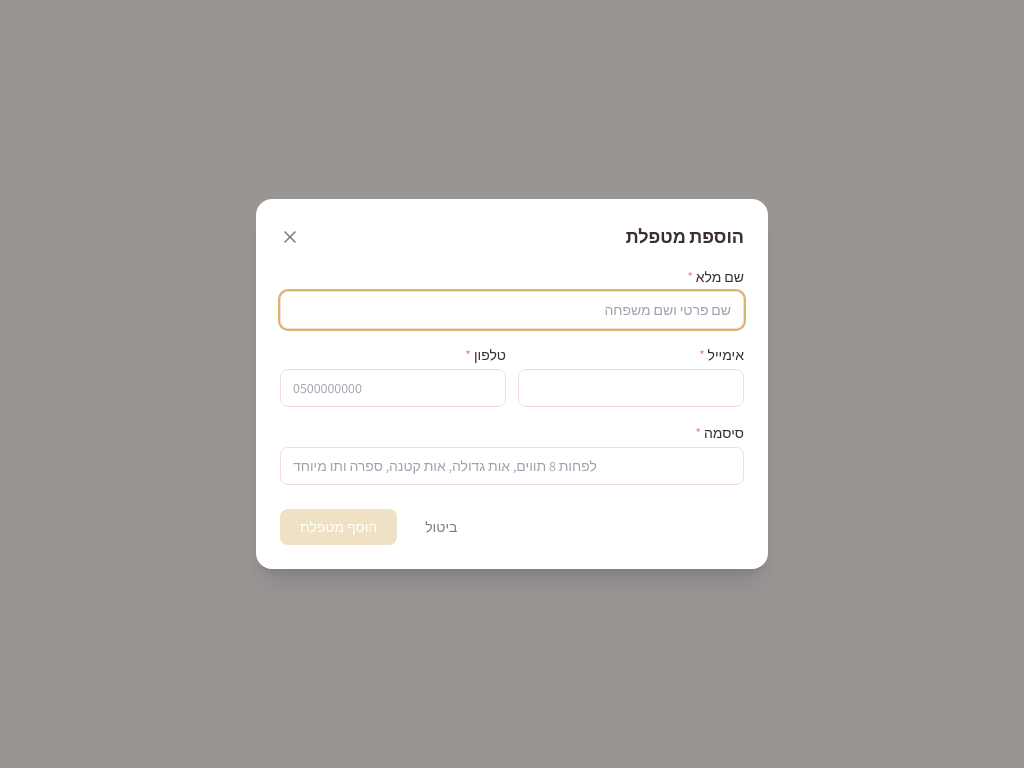
Scenario: TherapistModal (Phase 012 — password field, async createTherapist) › shows a Hebrew error and does not close when createTherapist rejects
The image size is (1024, 768).
Type "מטפלת חדשה" into the field with placeholder "שם פרטי ושם משפחה". click: [512, 310]
box: [280,291,744,329]
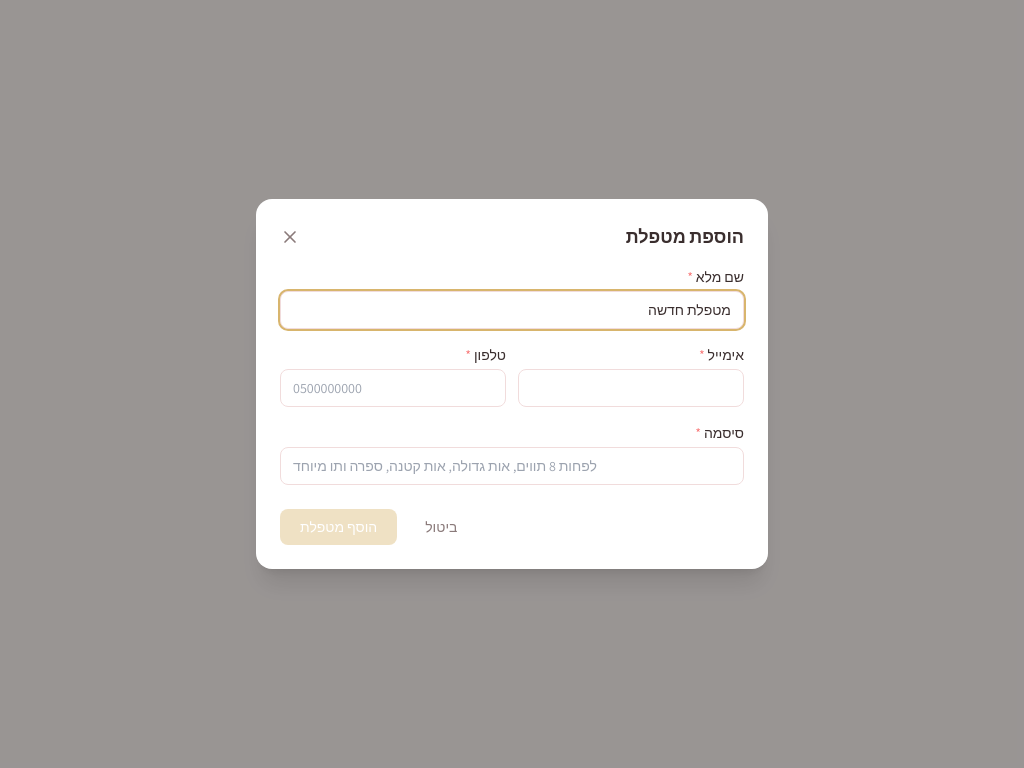
Type "dup@clinic.local" into the field below "אימייל". click: [631, 388]
box: [518,369,744,407]
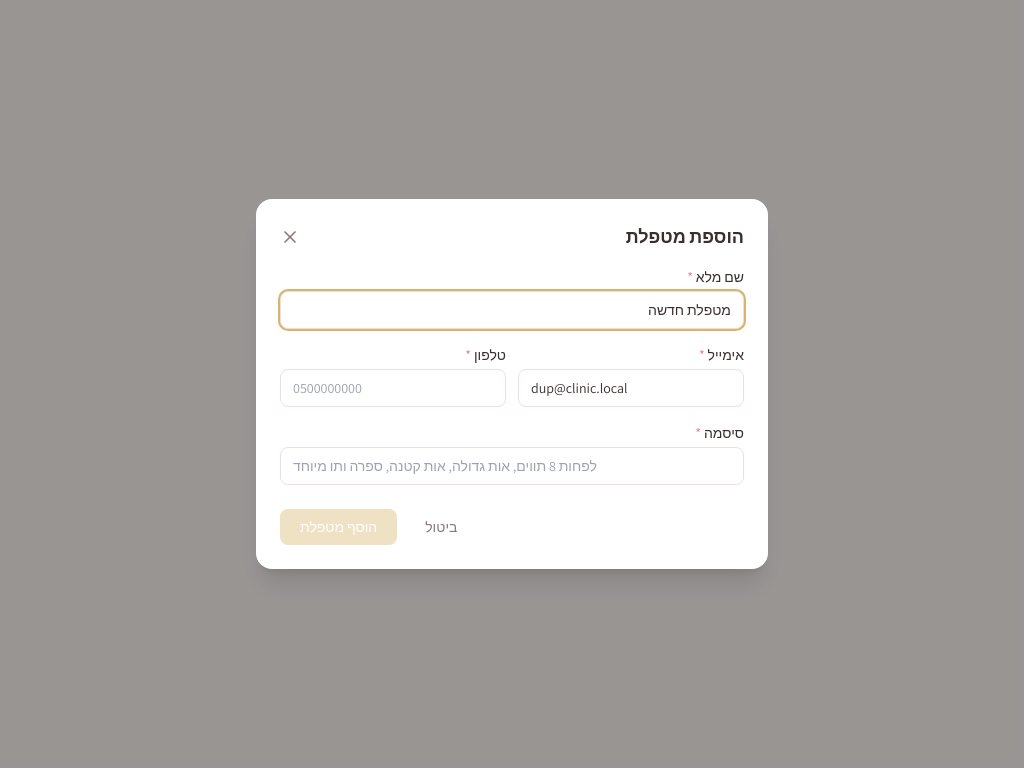
Type "0501234567" into the field with placeholder "0500000000". click: [393, 388]
box: [280,369,506,407]
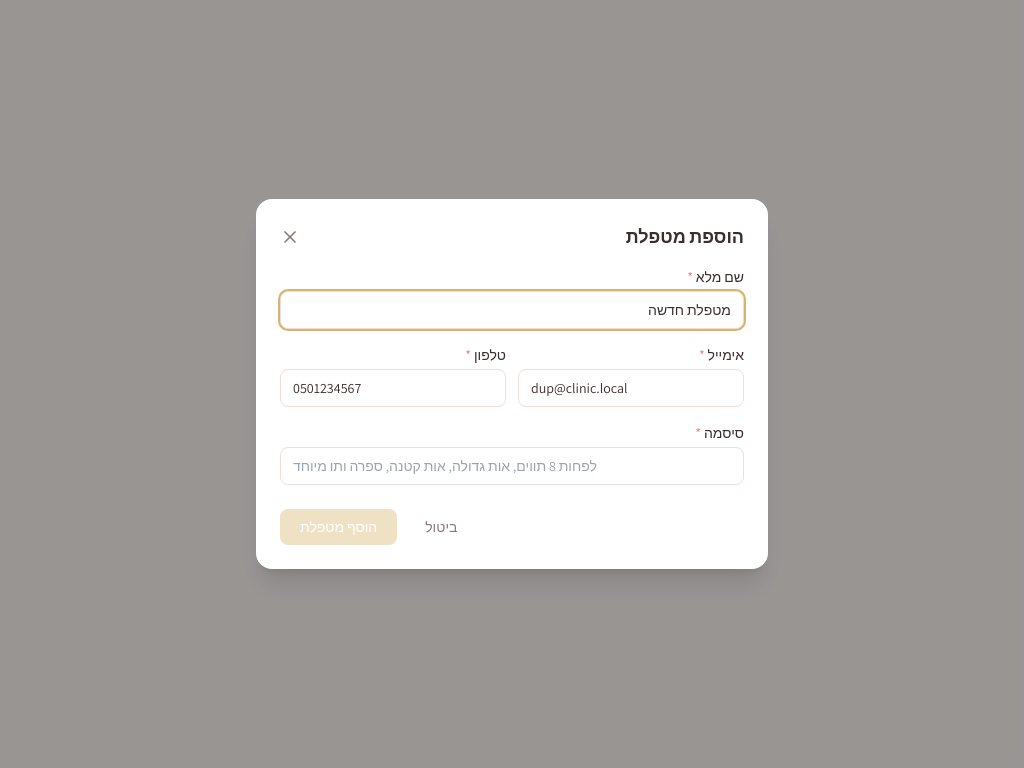
Type "Password@1" into the password field with placeholder "לפחות 8 תווים, אות גדולה, אות קטנה, ספרה ותו מיוחד". click: [512, 466]
box: [280,447,744,485]
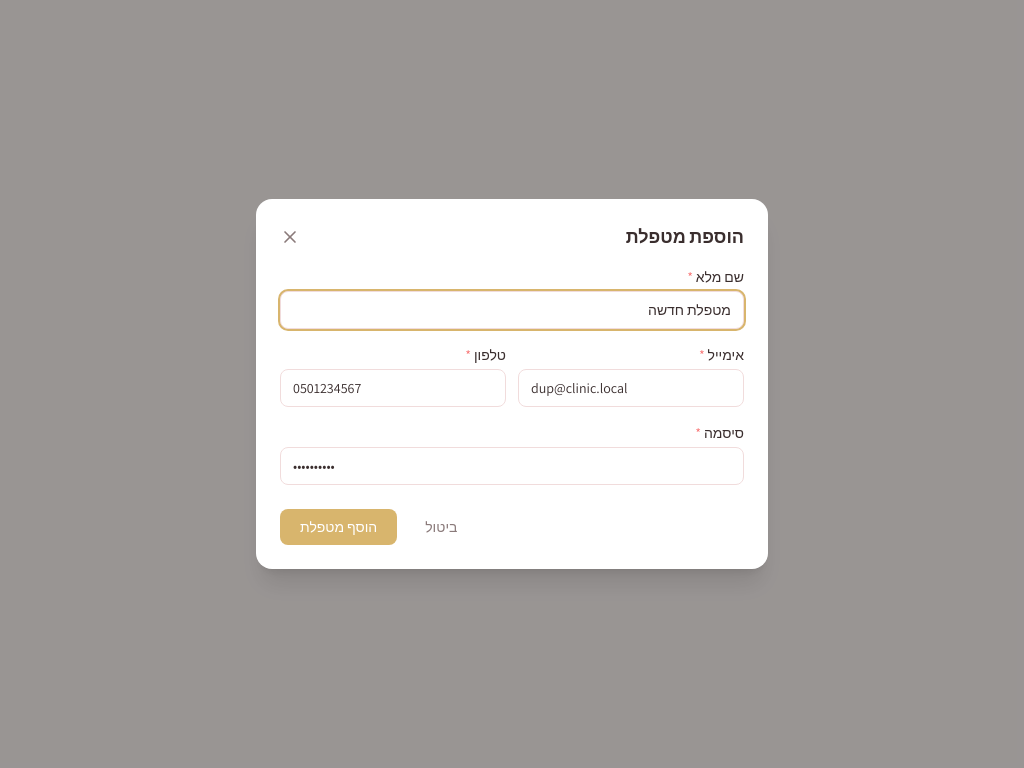
Click the button "הוסף מטפלת". click: [339, 527]
box: [280,509,397,545]
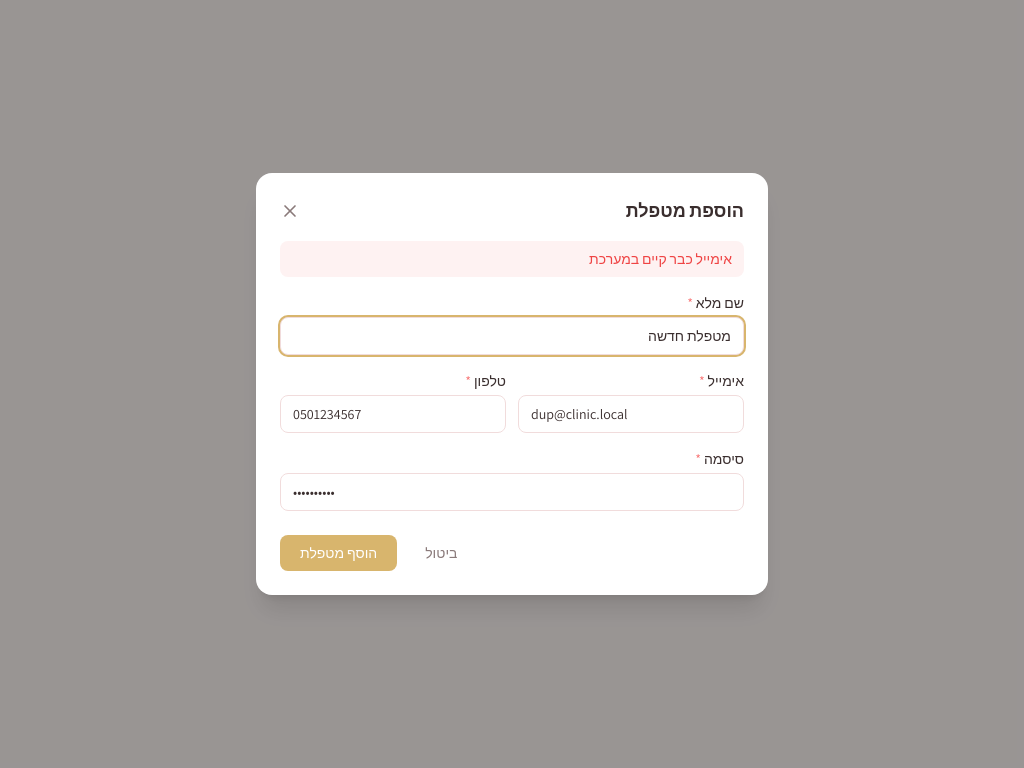
Result: the text "אימייל כבר קיים במערכת" is shown at [280,241,744,277]
